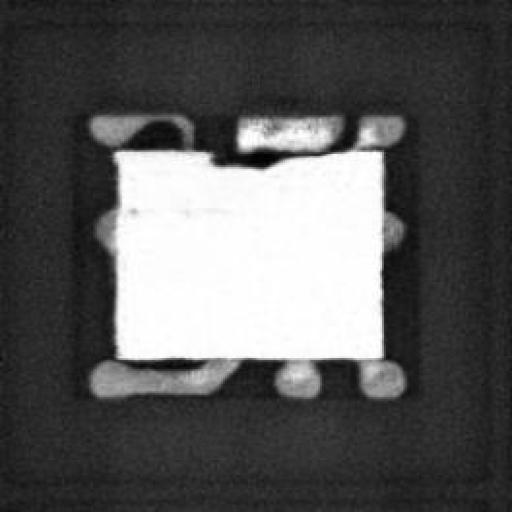DIE_BROKEN: (196, 147, 308, 167)
